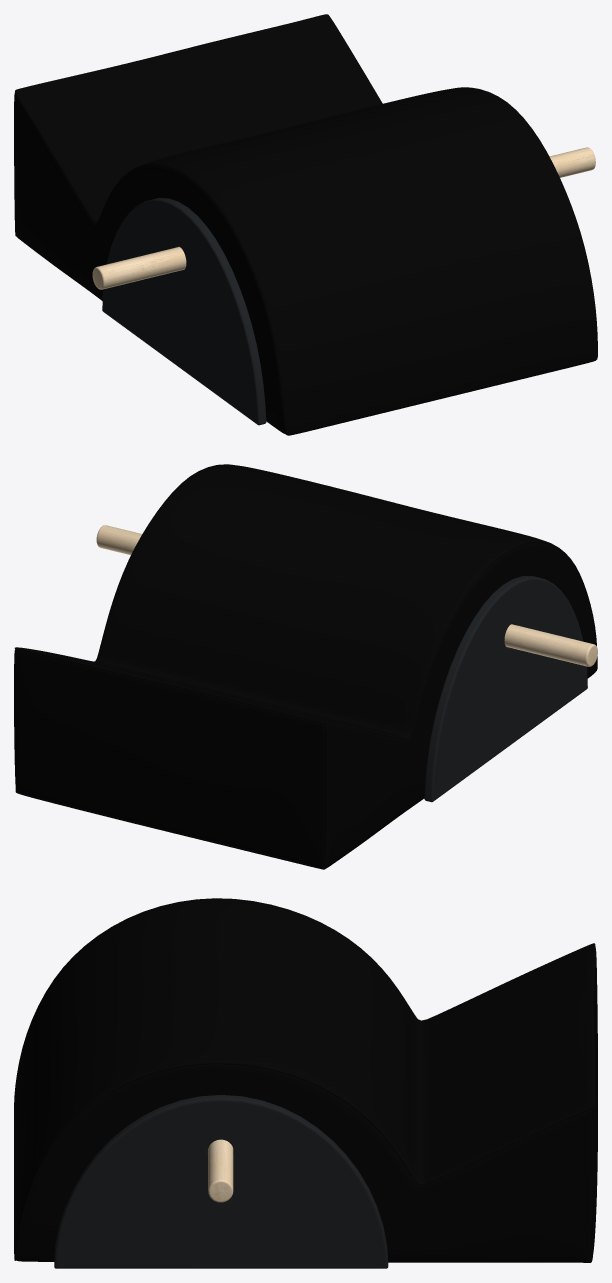
Rendered from merrithew-spine-corrector.glb.
3 views of the same model, one above another, from view 1: azimuth 30°, elevation 25°; view 2: azimuth 150°, elevation 25°; view 3: azimuth 270°, elevation 25° (orthographic). The views are drawn at different scales.
Size of the model in its own units: 0.81 by 0.3031 by 0.7787.
3 materials, 2 textured.
